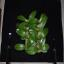leaf: (38, 16, 48, 31), (27, 34, 36, 48), (16, 28, 28, 38), (38, 36, 46, 50), (28, 10, 37, 22), (40, 43, 50, 53), (14, 43, 26, 51), (26, 23, 38, 31), (40, 27, 48, 39), (17, 15, 28, 23), (25, 48, 39, 54), (39, 12, 46, 23), (15, 24, 27, 30), (18, 22, 28, 26)
